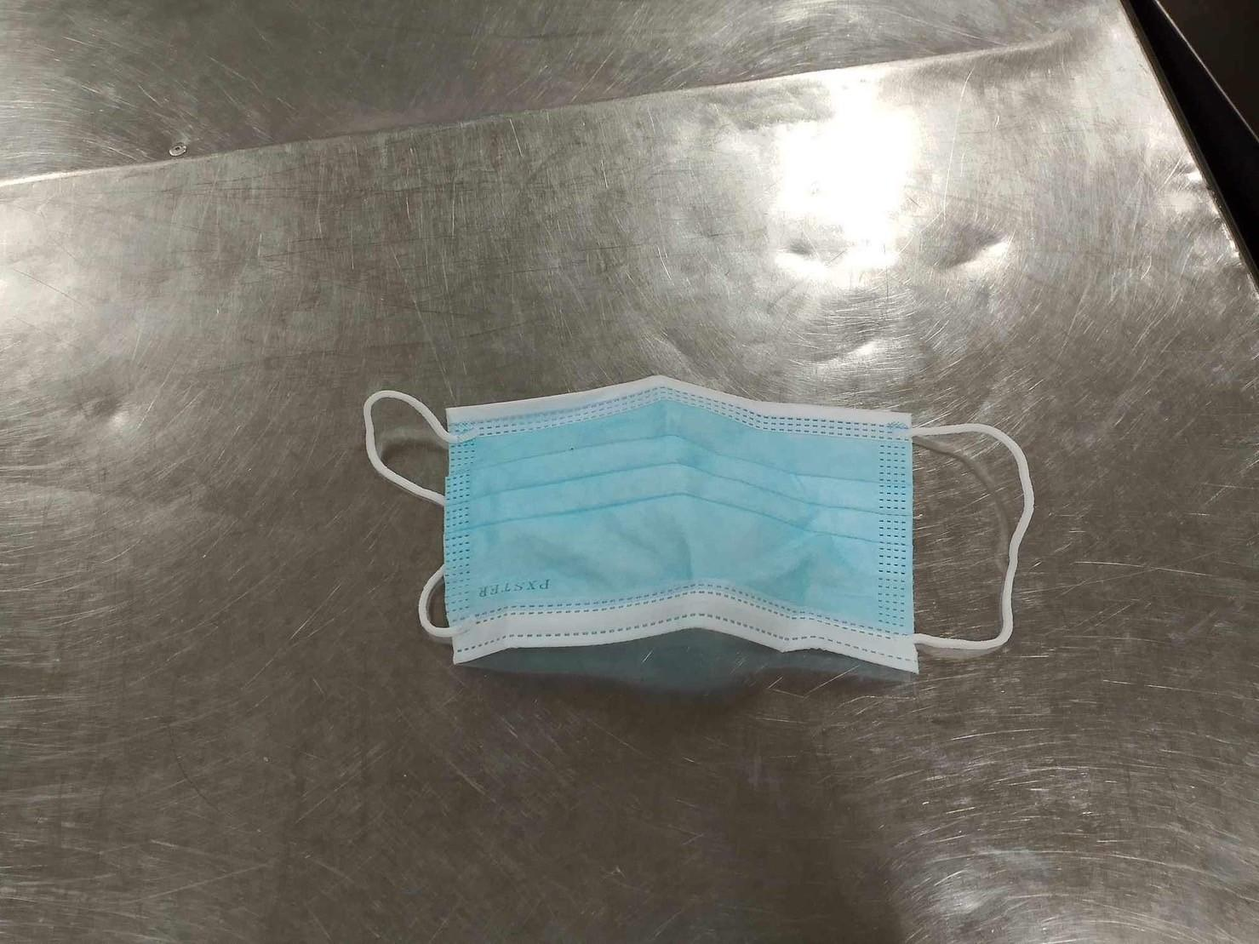Infectious: (362, 372, 1033, 678)
